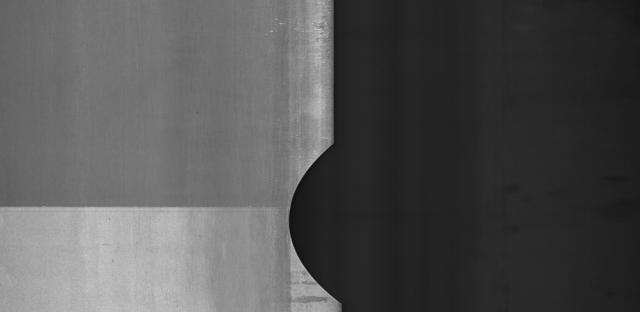crescent_gap: (274, 136, 360, 312)
welding_line: (6, 194, 327, 219)
